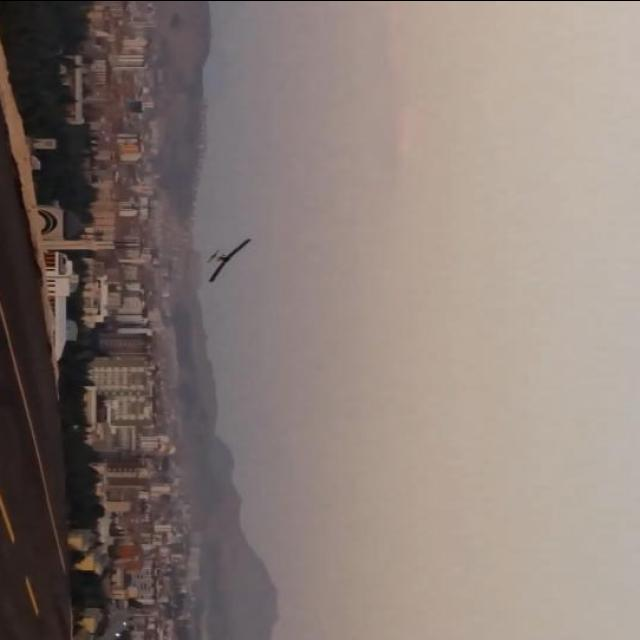plane: (207, 235, 254, 282)
